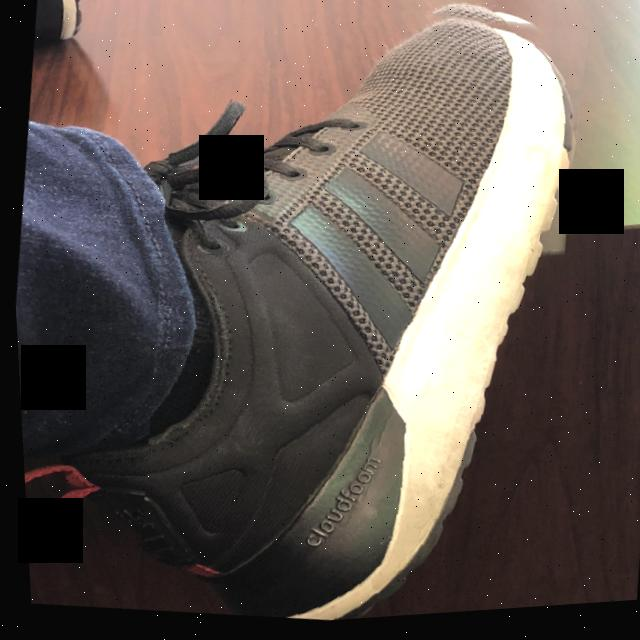shoe: (104, 0, 613, 635)
